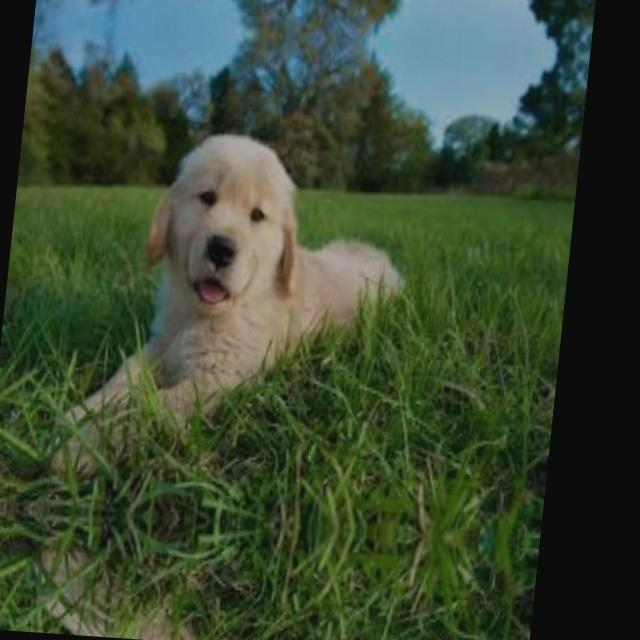dog: (118, 126, 320, 362)
